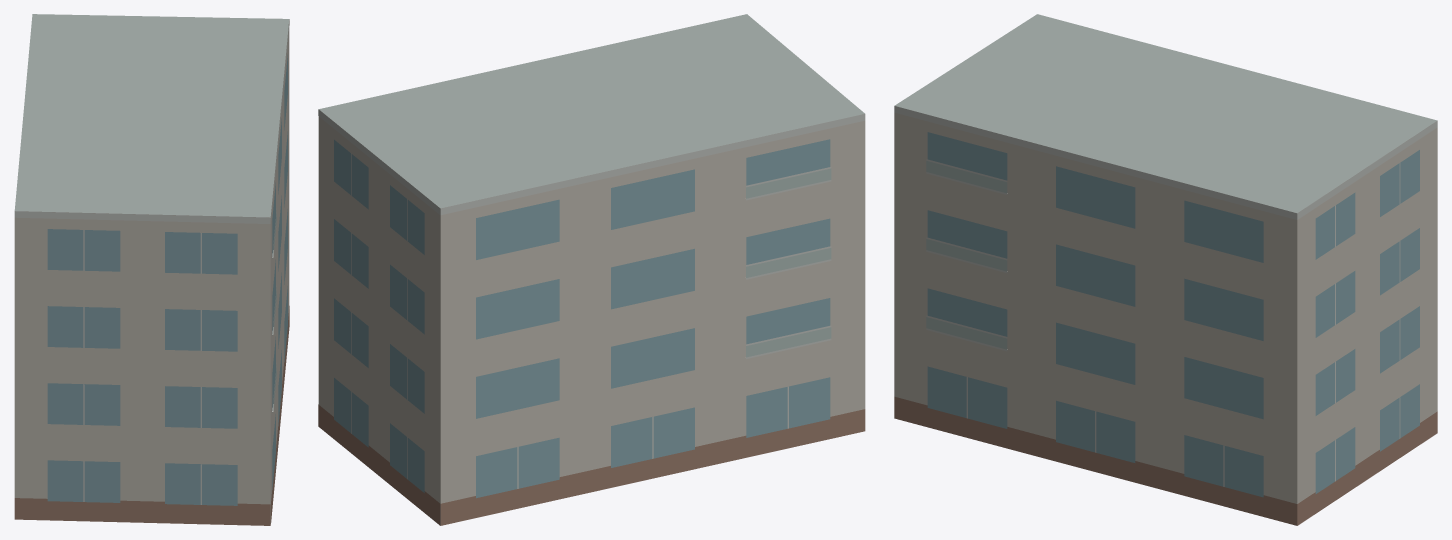
Rendered from survey-upis-32738022.glb.
The picture shows the model from 3 angles, left to right: view 1: azimuth 30°, elevation 25°; view 2: azimuth 150°, elevation 25°; view 3: azimuth 270°, elevation 25°; orthographic projection. The views are drawn at different scales.
Visible parts, largest first — view 1: survey-upis-32738022.tmp; view 2: survey-upis-32738022.tmp; view 3: survey-upis-32738022.tmp.
Boxes of the visible parts, box(x1,y1,x2,y2) form: survey-upis-32738022.tmp: box(14, 14, 289, 525); survey-upis-32738022.tmp: box(318, 14, 865, 525); survey-upis-32738022.tmp: box(894, 14, 1437, 525).
Bounding box in the file's own units: 15.46 × 11.3 × 17.81.
